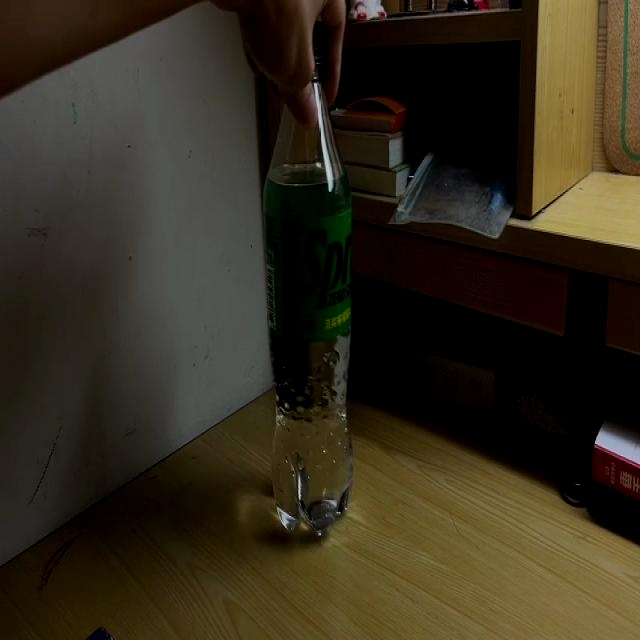Sprite: (262, 21, 354, 539)
